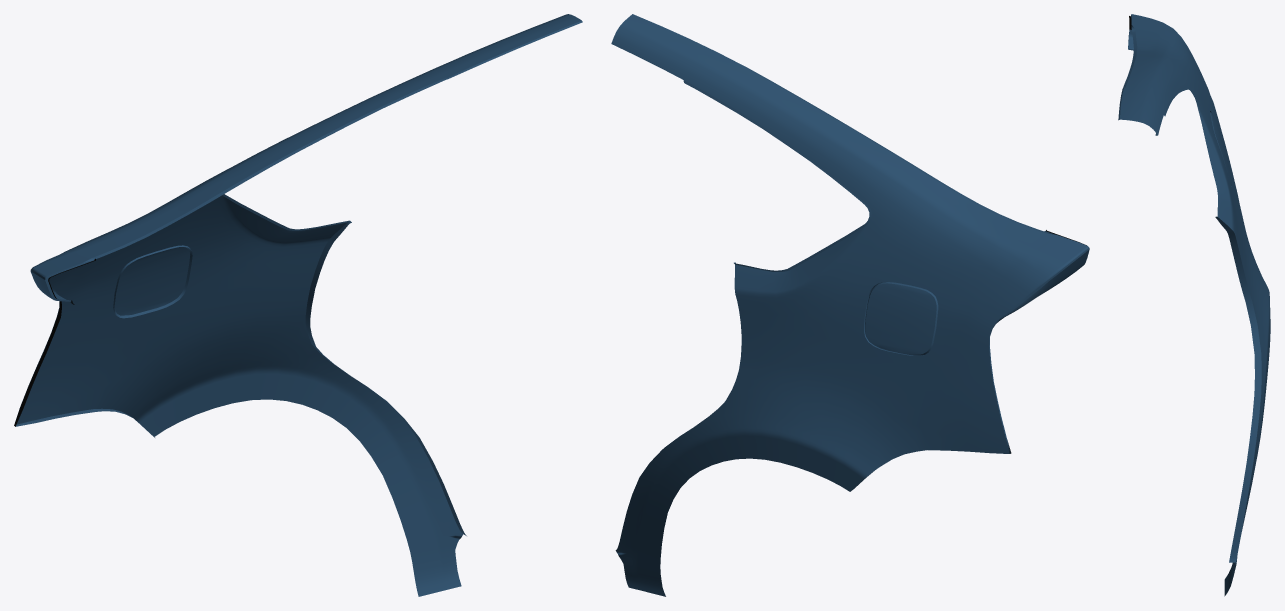
3 renders of one model, left to right at view 1: azimuth 30°, elevation 25°; view 2: azimuth 150°, elevation 25°; view 3: azimuth 270°, elevation 25°, orthographic. The views are drawn at different scales.
Visible parts, largest first — view 1: Y191_13_381B_L_1_DaS_Y191_13_381B_L, Y191_13_381B_L_1_DaS_Y191_13_381B_L_E; view 2: Y191_13_381B_L_1_DaS_Y191_13_381B_L, Y191_13_381B_L_1_DaS_Y191_13_381B_L_E; view 3: Y191_13_381B_L_1_DaS_Y191_13_381B_L, Y191_13_381B_L_1_DaS_Y191_13_381B_L_E.
Part boxes in pixels (x1,y1,x2,y2): Y191_13_381B_L_1_DaS_Y191_13_381B_L: (16,14,581,596); Y191_13_381B_L_1_DaS_Y191_13_381B_L_E: (15,20,582,535); Y191_13_381B_L_1_DaS_Y191_13_381B_L: (611,14,1089,596); Y191_13_381B_L_1_DaS_Y191_13_381B_L_E: (662,67,1089,490); Y191_13_381B_L_1_DaS_Y191_13_381B_L: (1120,14,1270,596); Y191_13_381B_L_1_DaS_Y191_13_381B_L_E: (1118,15,1261,562).
Size of the model in its own units: 109 by 117 by 32.14.
